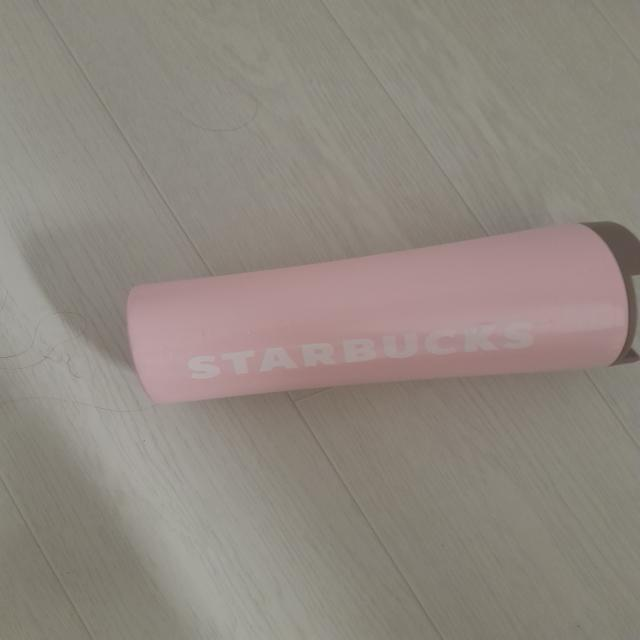waterbottle: (131, 221, 640, 402)
